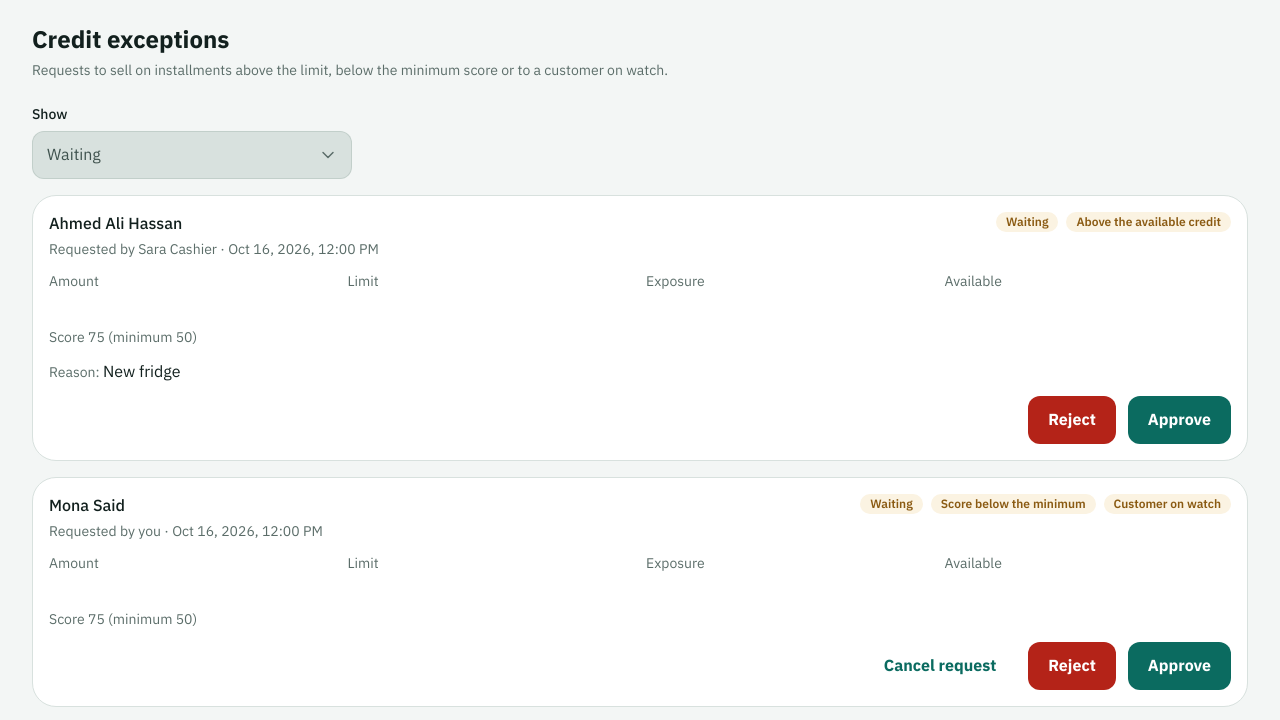
Test: R03 credit exceptions page › rejecting needs a note and sends it trimmed
Click the 1st button "Reject": (1072, 420) [1028,396,1116,444]
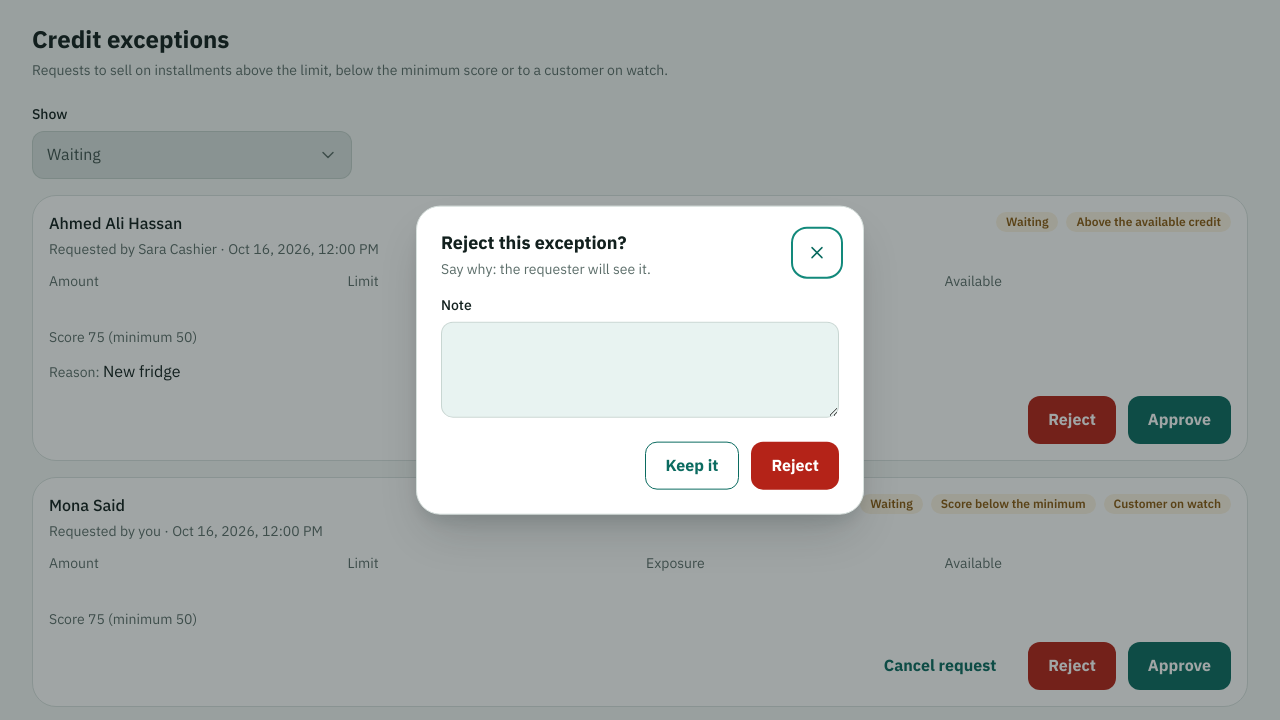
Click the button "Reject": (795, 465) [752,441,839,489]
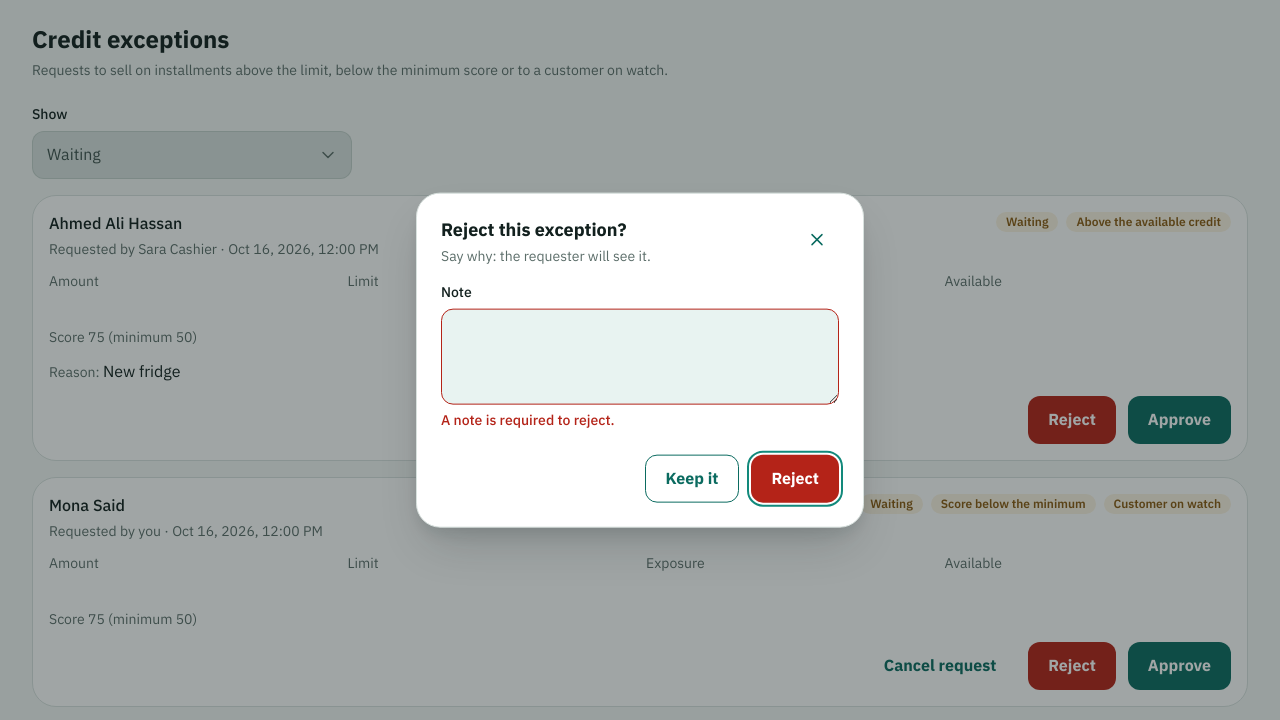
Expected: the text "A note is required to reject." is shown, [441,409,615,430]
In the text box labelled "Note": (640, 356) [441,308,839,404], type "  Too much  "
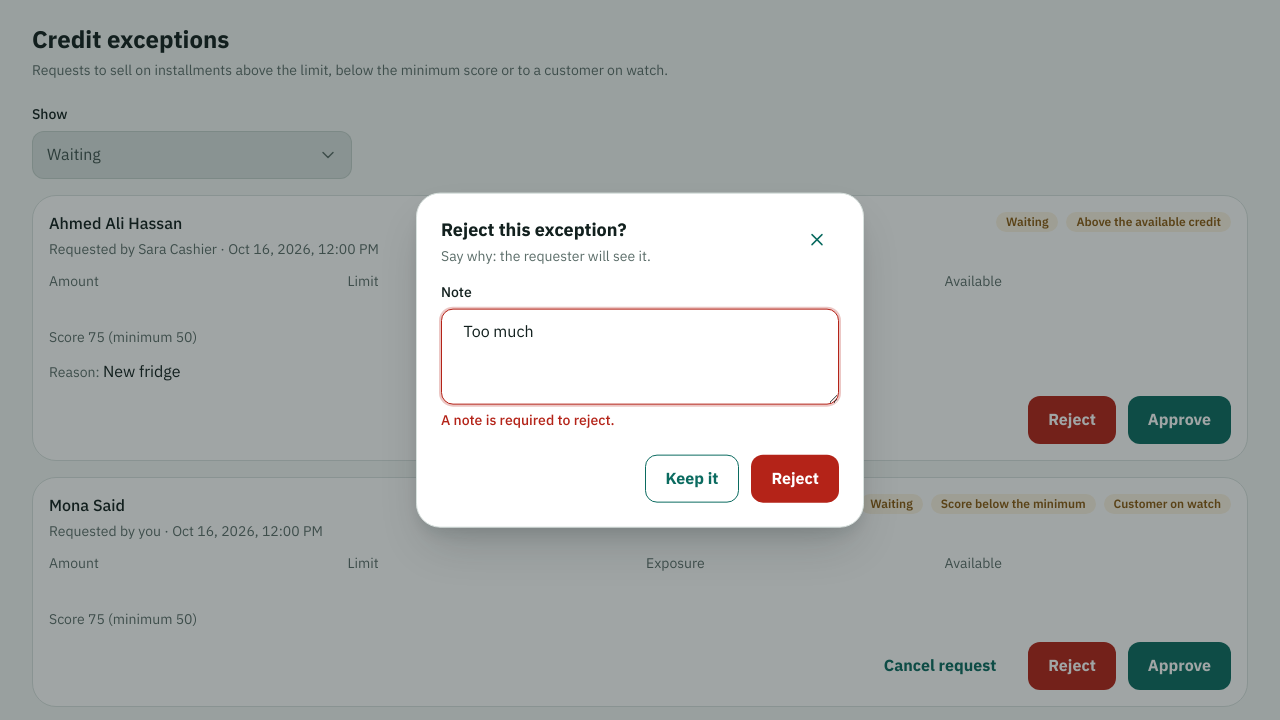
Click the button "Reject": (795, 478) [752,454,839,502]
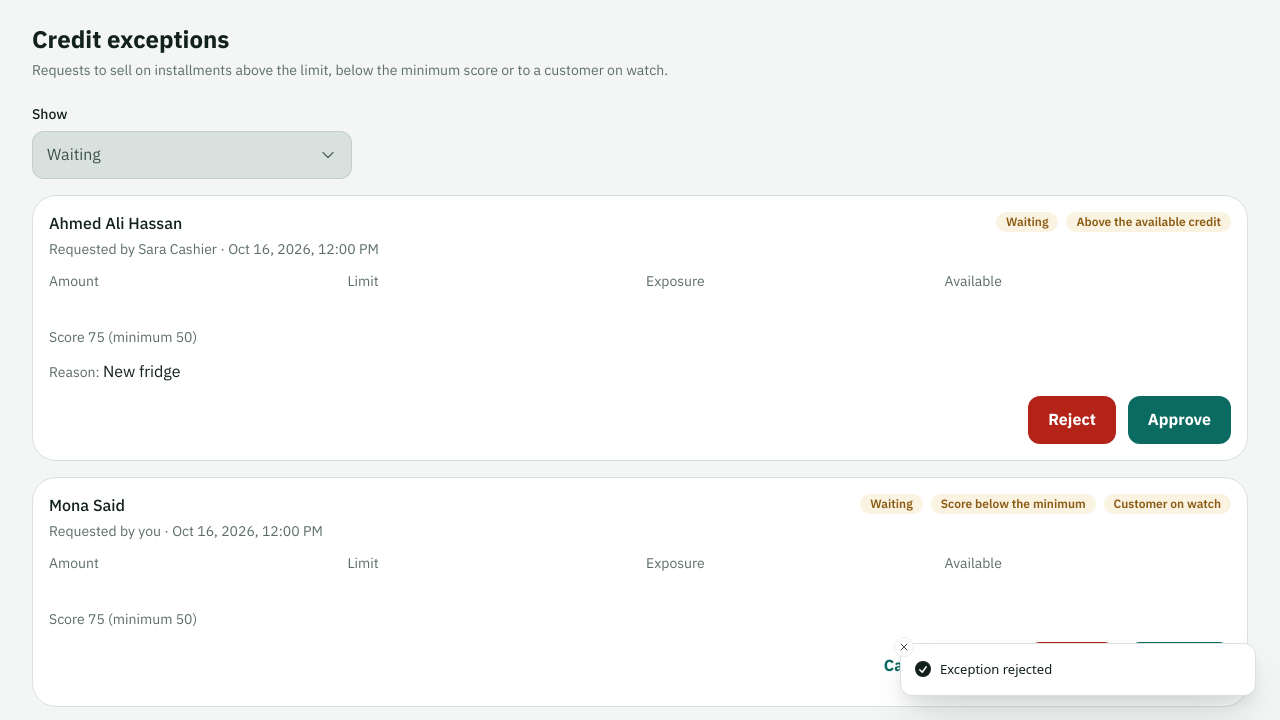
Expected: the text "Exception rejected" is shown, [940,660,1052,679]
